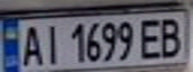1: (63, 19, 87, 63)
6: (81, 19, 103, 63)
9: (115, 17, 139, 62), (100, 19, 121, 62)
A: (18, 21, 45, 68)
B: (154, 15, 187, 58)
E: (136, 16, 166, 60)
I: (39, 20, 63, 66)
